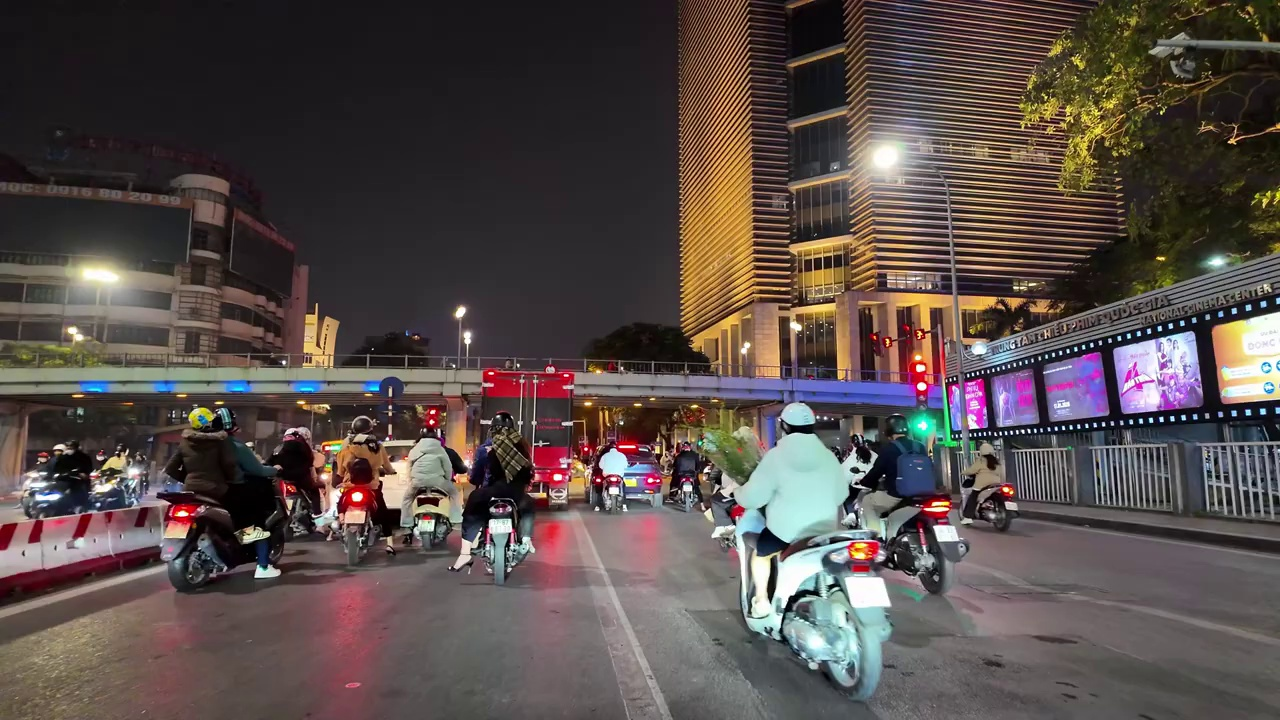acesa: (82, 261, 123, 294), (864, 142, 901, 178), (450, 300, 471, 323)
